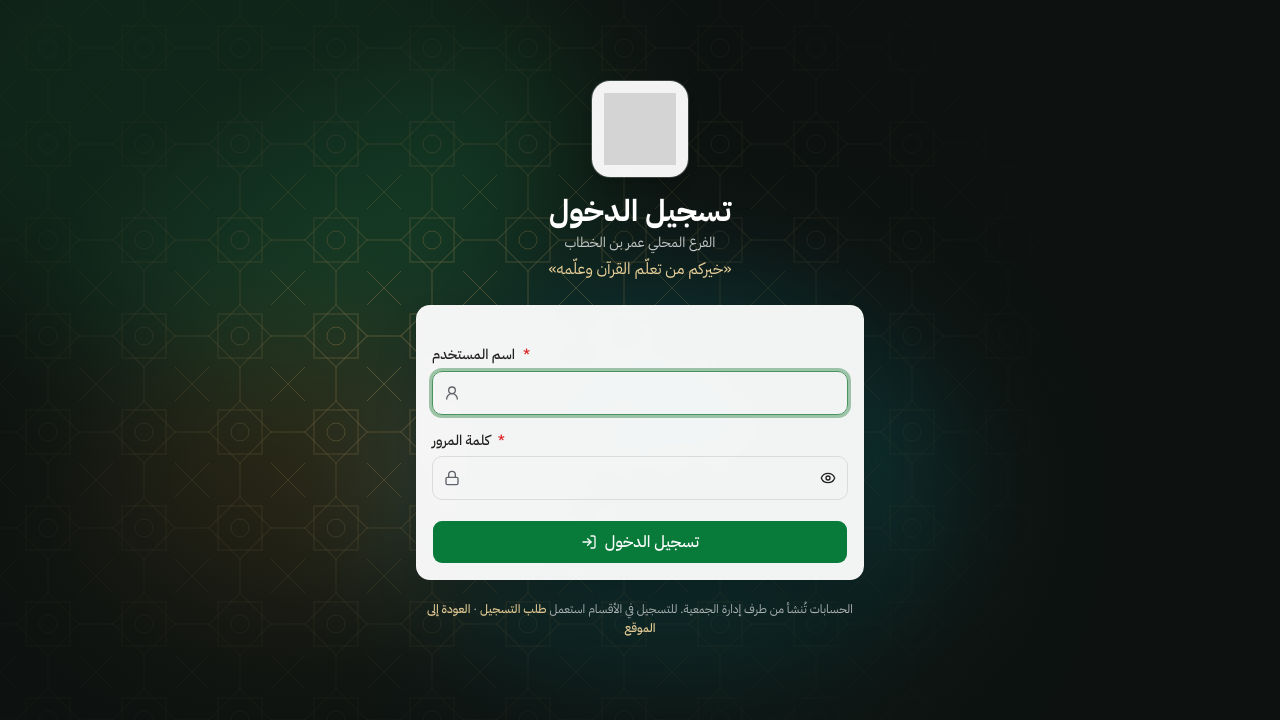
Test: login page › shows the invalid-credentials message and clears the password
The image size is (1280, 720).
Type "admin" into the field labelled "اسم المستخدم *" at (640, 392), box [432,370,848,414]
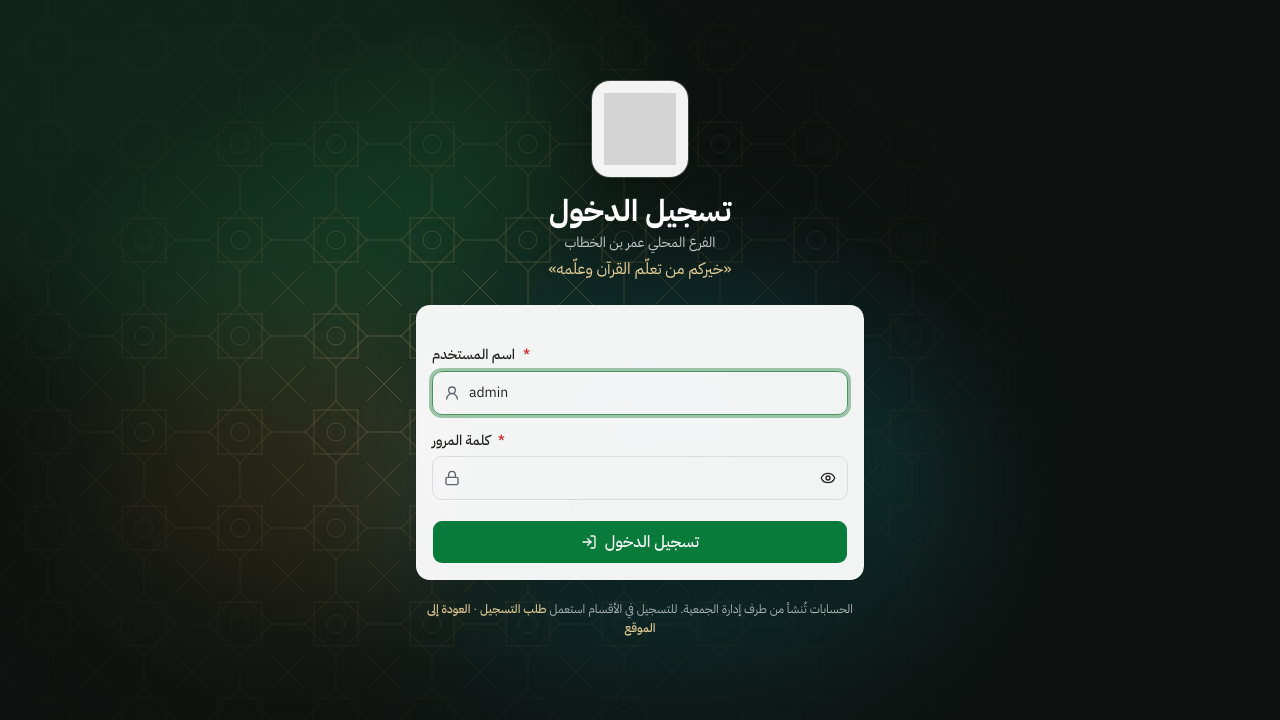
Type "wrong-pass" into the password field labelled "كلمة المرور *" at (640, 478), box [432,456,848,500]
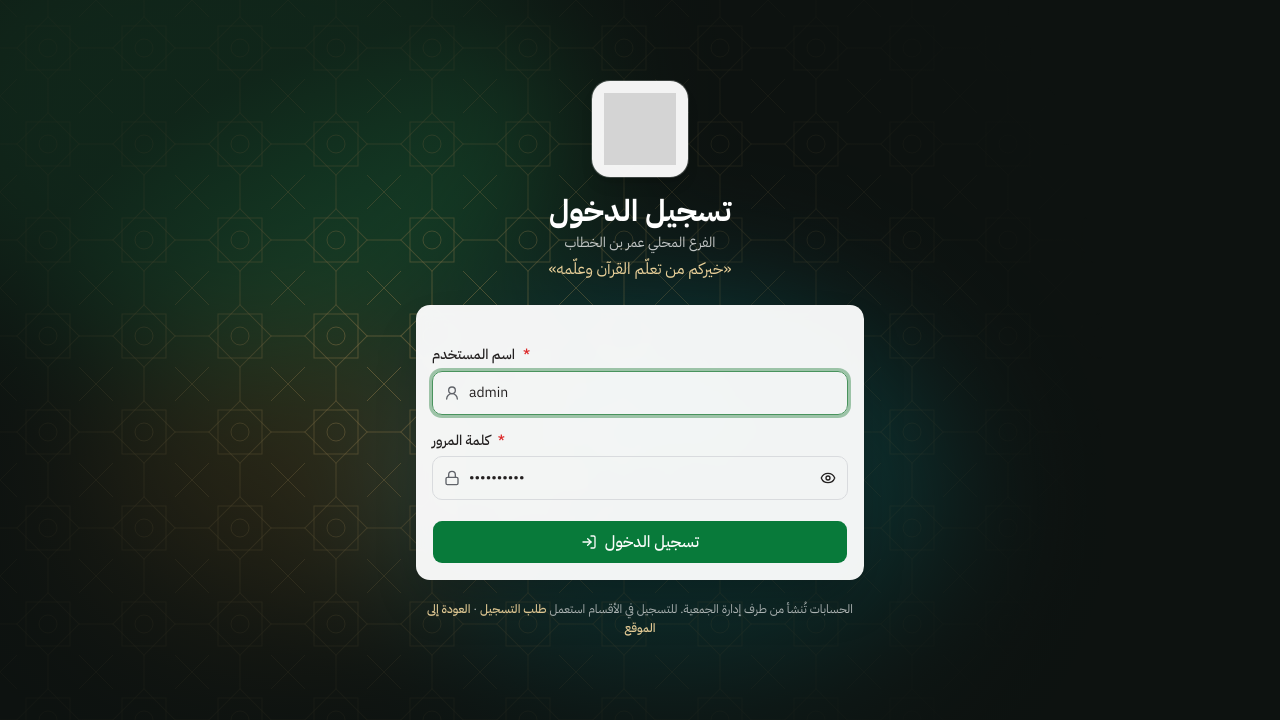
Click the button "تسجيل الدخول" at (640, 542), box [432,520,848,564]
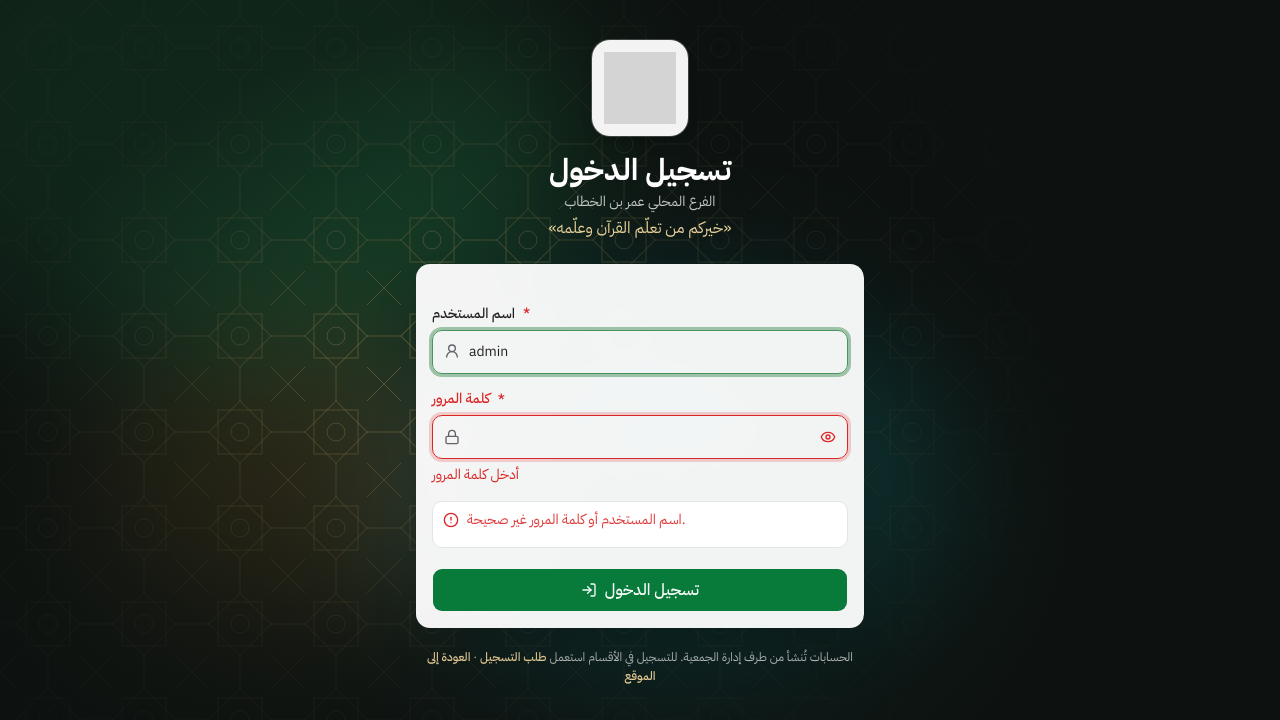
Now the text "اسم المستخدم أو كلمة المرور غير صحيحة." is shown, box [467,508,686,530]
Now the password field labelled "كلمة المرور *" is empty, box [432,414,848,458]
